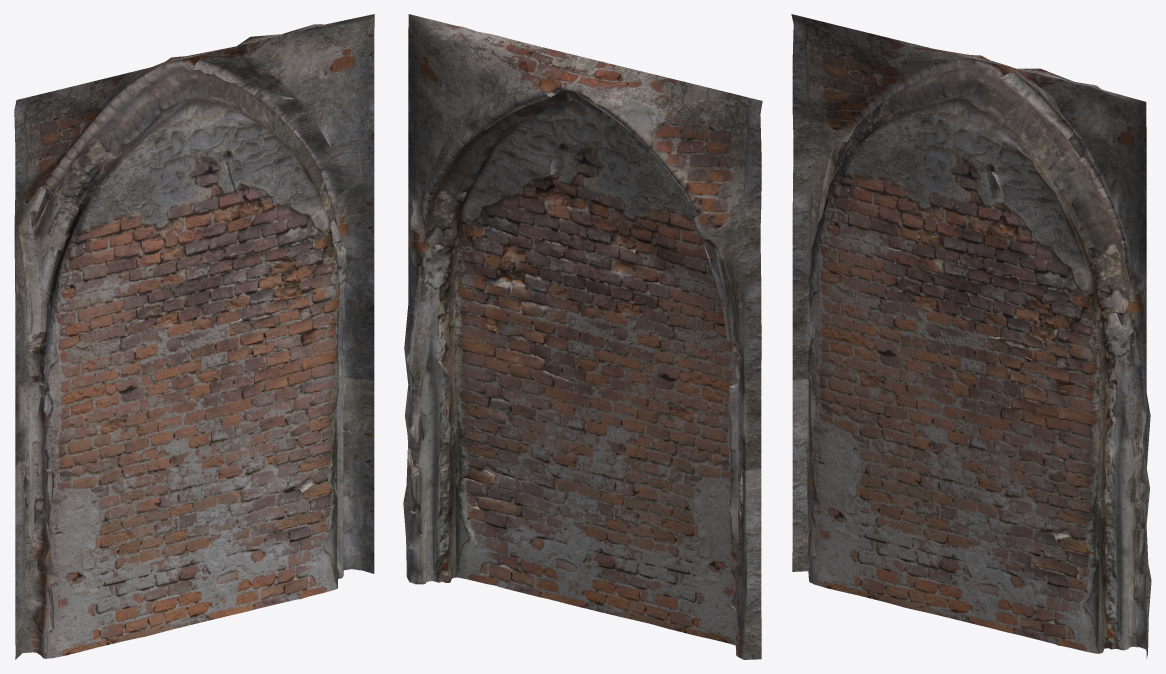
Rendered from SM_ChapelWall_02_11_OneSide.fbx.
The picture shows the model from 3 angles, left to right: view 1: azimuth 30°, elevation 25°; view 2: azimuth 150°, elevation 25°; view 3: azimuth 330°, elevation 25°; orthographic projection.
Parts seen in each view (by area): view 1: sm_ChapelWall_02_11_OneSide_LOD0; view 2: sm_ChapelWall_02_11_OneSide_LOD0; view 3: sm_ChapelWall_02_11_OneSide_LOD0.
Part boxes in pixels (x1,y1,x2,y2): sm_ChapelWall_02_11_OneSide_LOD0: (14, 14, 374, 659); sm_ChapelWall_02_11_OneSide_LOD0: (403, 14, 762, 659); sm_ChapelWall_02_11_OneSide_LOD0: (791, 14, 1151, 658).
Bounding box in the file's own units: 42.36 × 250 × 376.
